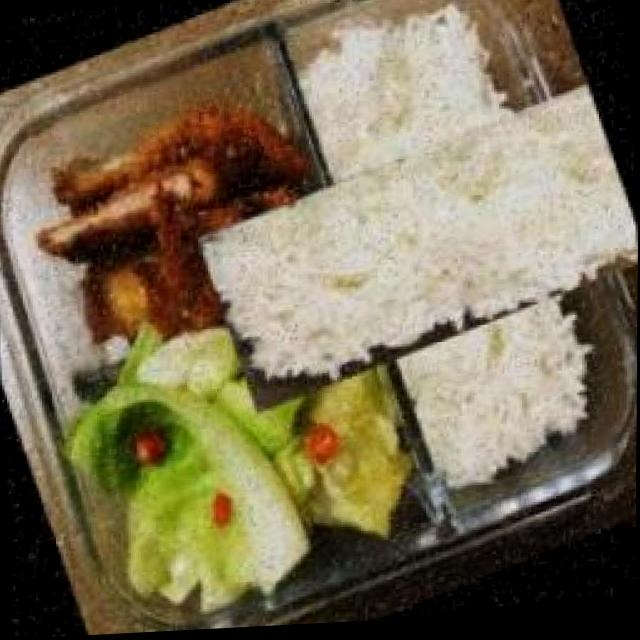rice: (234, 14, 640, 467)
